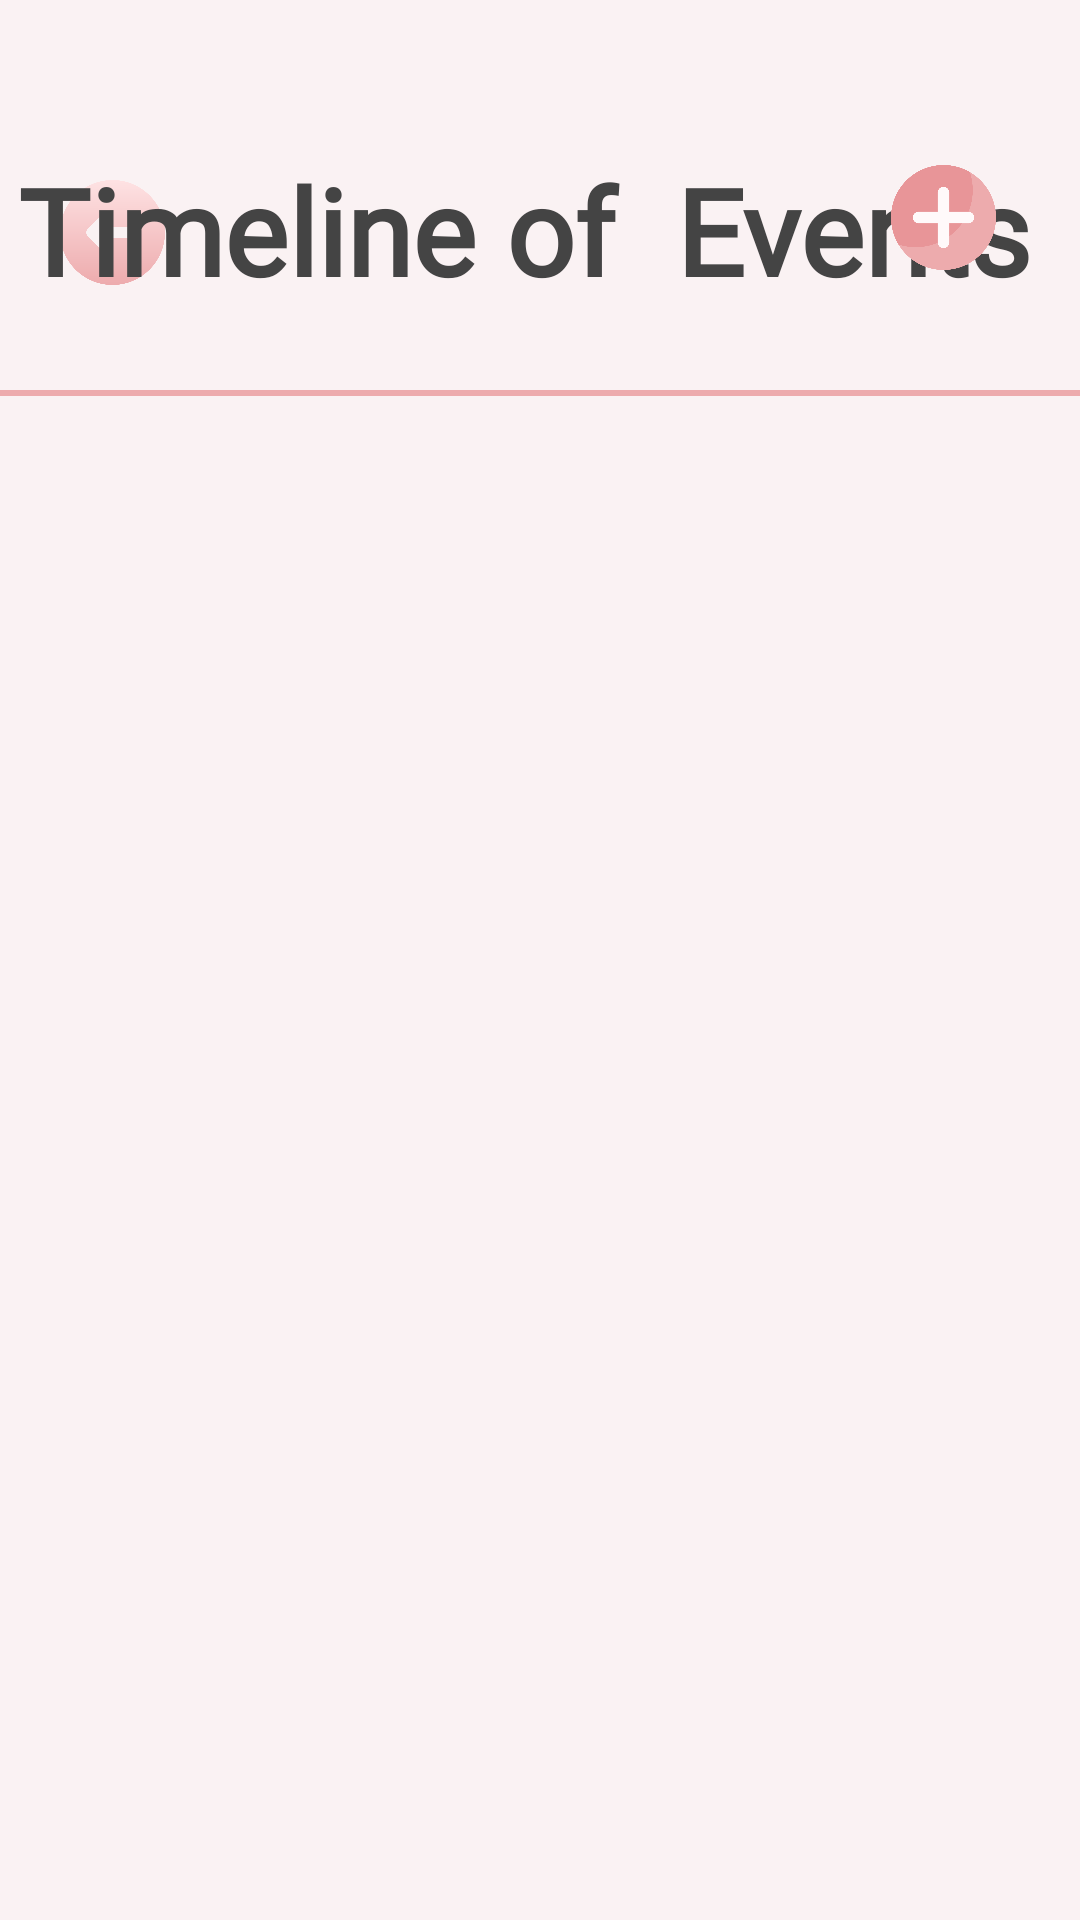

Locate icon controls on the screen. Image size 1080×1920, boxes as (x1, y1, x2, y2).
Add Event Icon: (891, 165, 996, 270)
